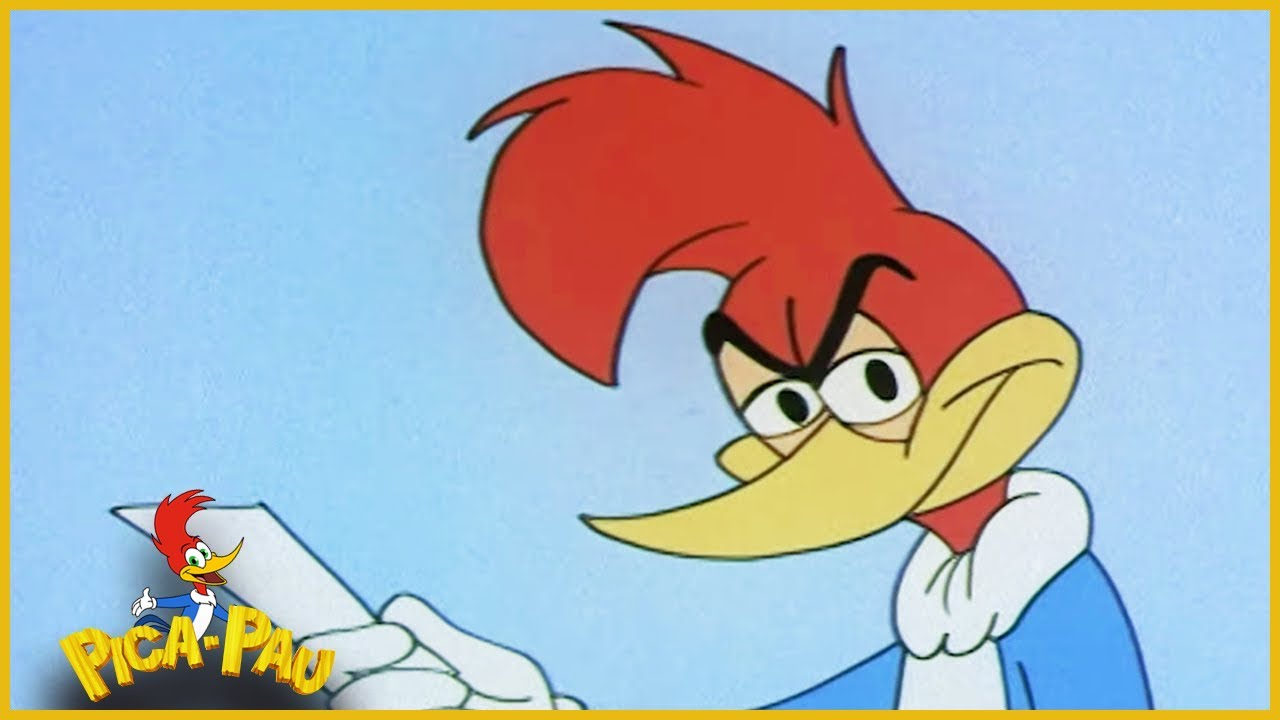picapau: (412, 20, 1201, 720)
